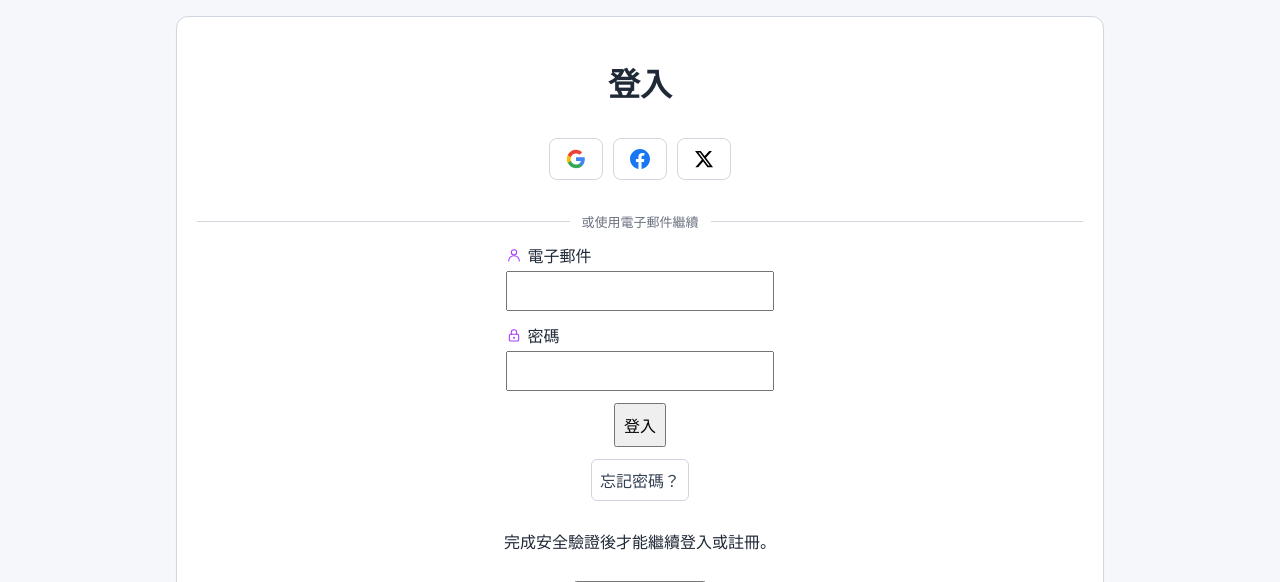
Scenario: AuthPage › renders sign-in and shows validation error on empty submit
Click the button "登入". click: point(640, 425)
box: [614, 403, 666, 447]
(page scrolled)
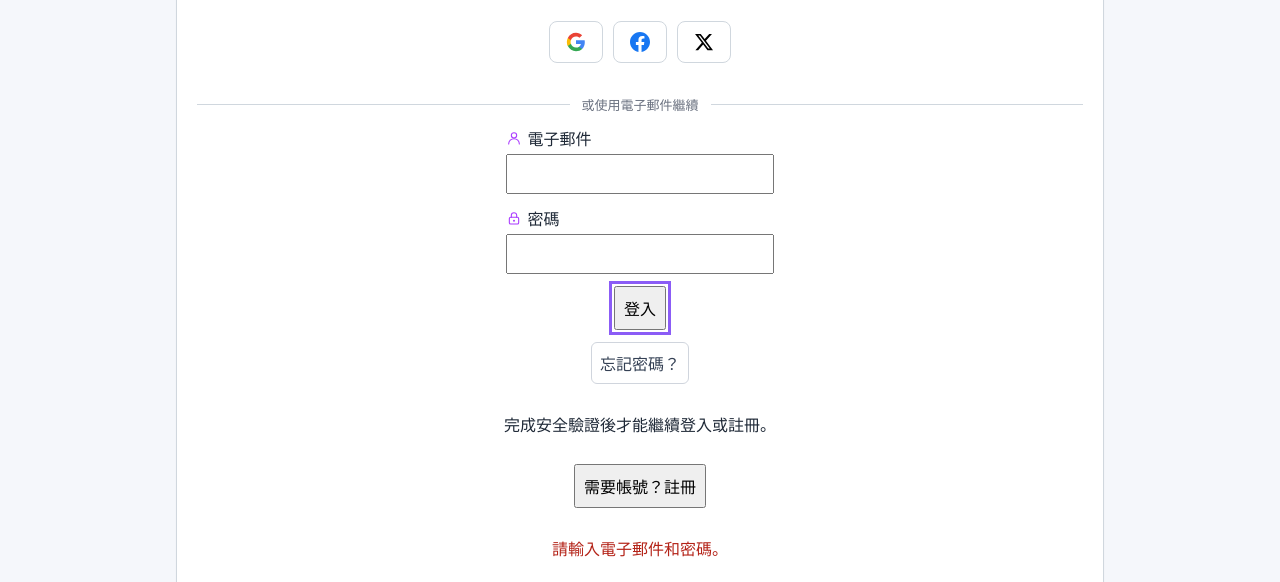
Expected: the text "請輸入電子郵件和密碼。" is shown, [552, 536, 728, 560]
